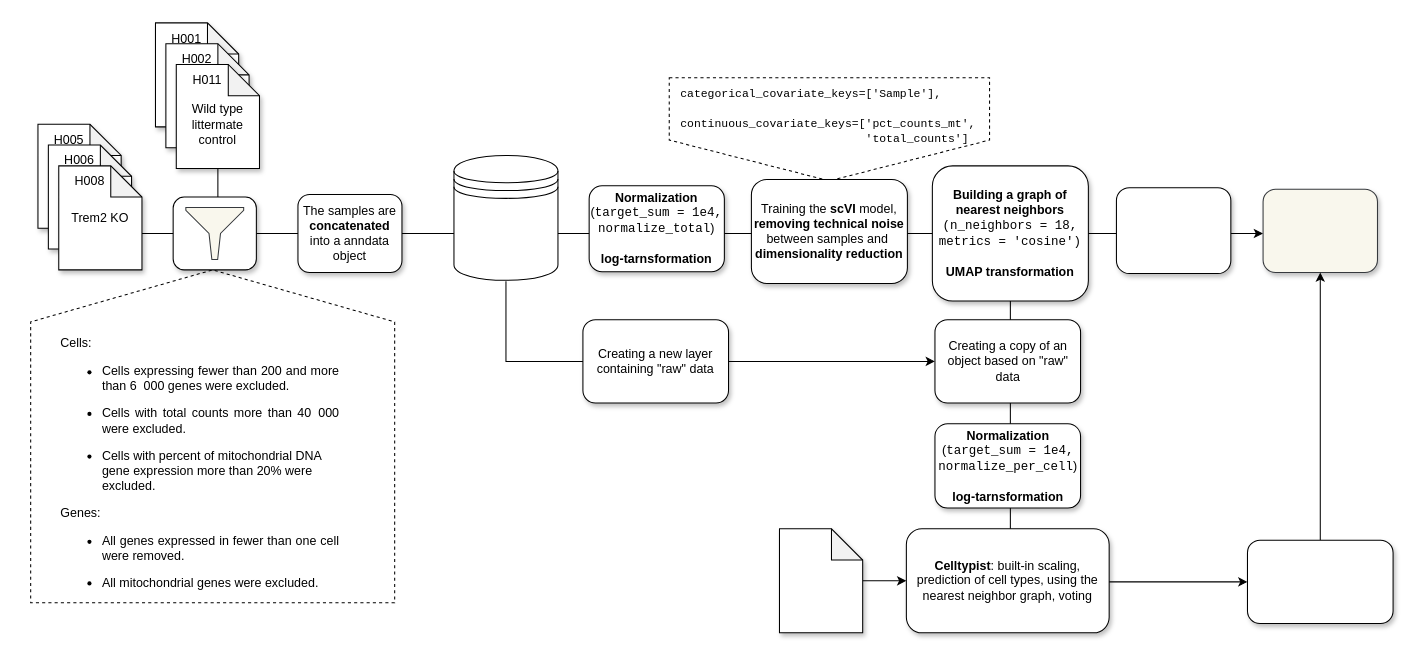
The diagram is 1418 pixels wide and 658 high, and some of its shapes have lost their labels. Here are the shapes that lost their labels. From the top down, the centre of each, then its label:
the point at 505,217: Combined data (H003, H004, H007, H009)
the point at 1174,232: Scaling (Z-transform, acceptable maximum is 10)
the point at 1321,232: plot UMAP
the point at 821,582: Adult_Mouse _Gut.pkl
the point at 1320,583: Cell type markup for each cell
